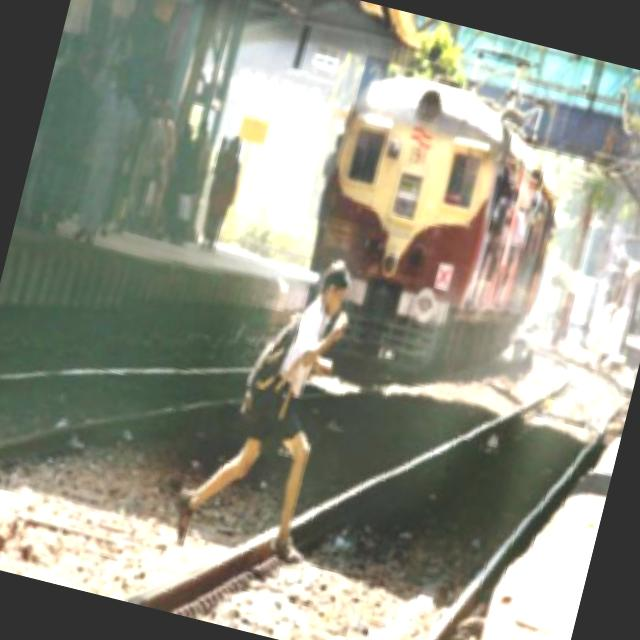Person: (169, 236, 374, 570)
